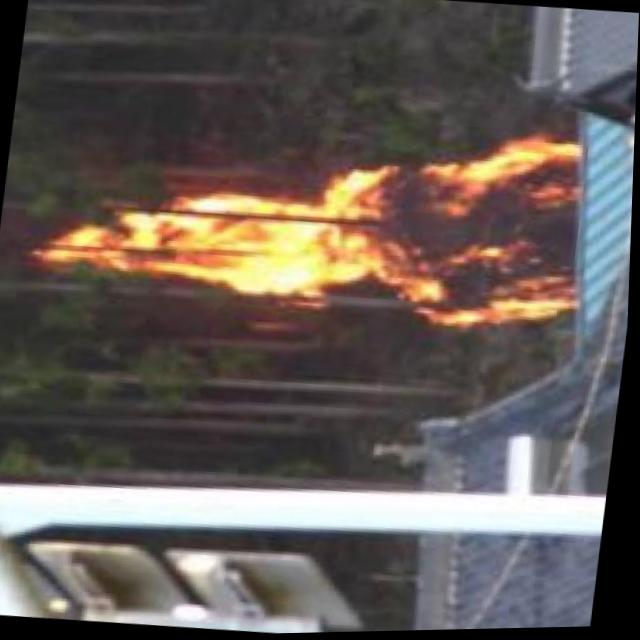Fire: (33, 96, 600, 353)
